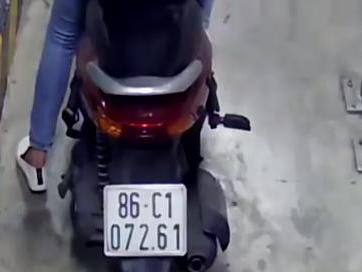num_plate: (103, 184, 188, 257)
